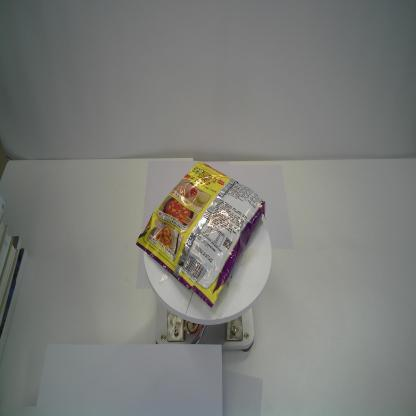Instant Noodles: (133, 160, 267, 310)
